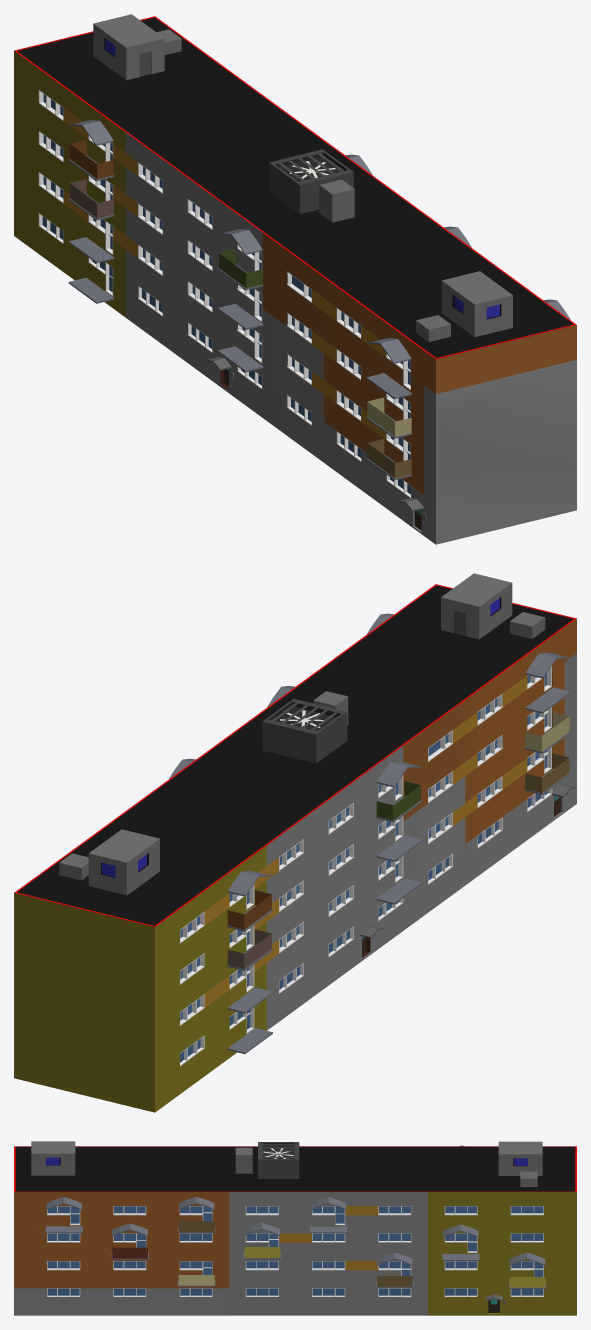
Rendered from Model_Block.fbx.
3 views of the same model, one above another, from view 1: azimuth 30°, elevation 25°; view 2: azimuth 150°, elevation 25°; view 3: azimuth 270°, elevation 25° (orthographic). The views are drawn at different scales.
Parts seen in each view (by area): view 1: LOD_0; view 2: LOD_0; view 3: LOD_0.
Part boxes in pixels (bbox=[...]): LOD_0: bbox=[14, 14, 576, 544]; LOD_0: bbox=[14, 573, 576, 1112]; LOD_0: bbox=[14, 1141, 576, 1315].
Size of the model in its own units: 6556 by 1869 by 1585.
